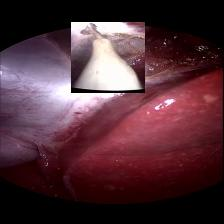Hook: (72, 21, 146, 92)
